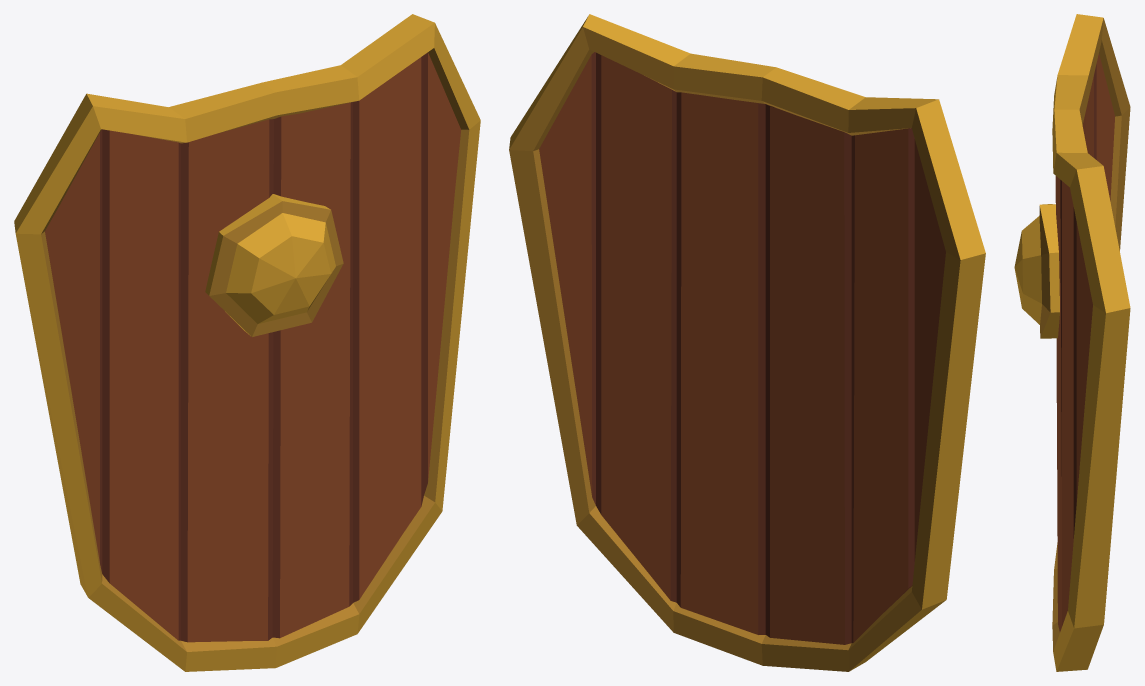
The model's file is SM_TowerShield_B.fbx.
3 views of the same model, side by side, from view 1: azimuth 30°, elevation 25°; view 2: azimuth 150°, elevation 25°; view 3: azimuth 270°, elevation 25° (orthographic). The views are drawn at different scales.
Parts seen in each view (by area): view 1: SM_TowerShield_B; view 2: SM_TowerShield_B; view 3: SM_TowerShield_B.
Boxes of the visible parts, <box> form: SM_TowerShield_B: <box>14,14,480,671</box>; SM_TowerShield_B: <box>509,14,985,671</box>; SM_TowerShield_B: <box>1014,14,1130,671</box>.
Bounding box in the file's own units: 1.06 × 1.29 × 0.2448.
